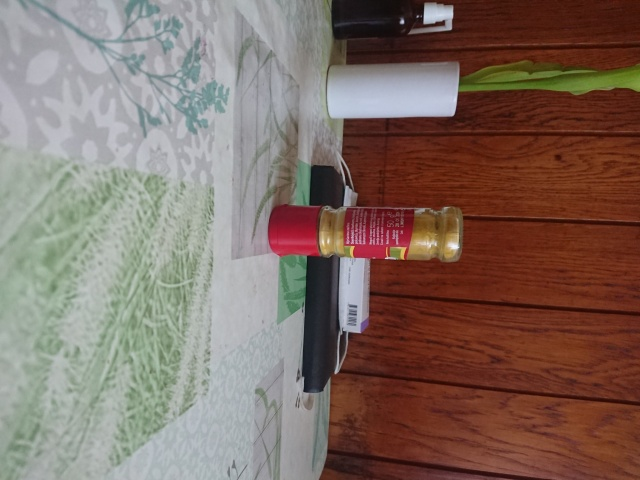Kotanyi Curry Spices Mix 70g: (266, 201, 465, 265)
